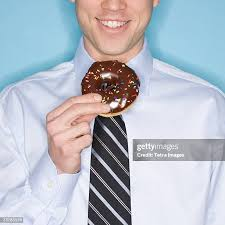Donut: (80, 59, 141, 118)
